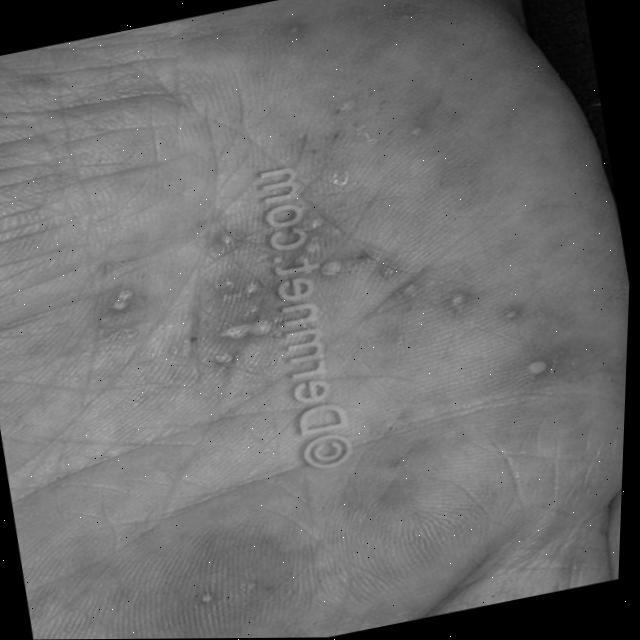Eczema: (35, 61, 627, 640)
